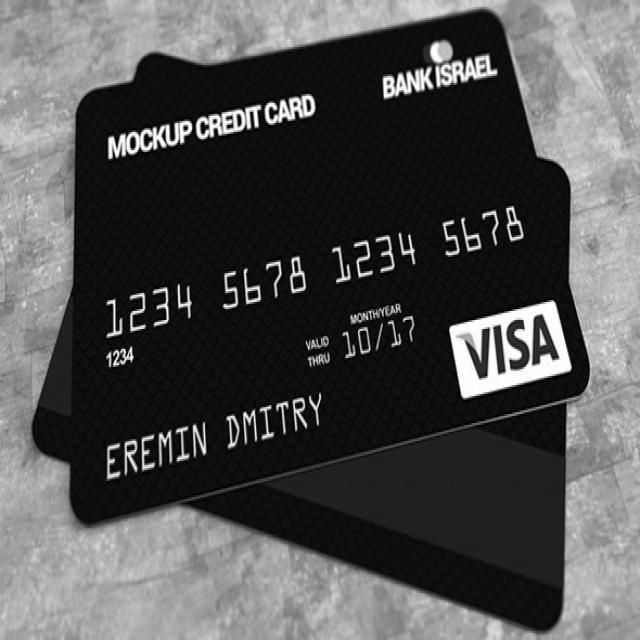card: (73, 8, 595, 528)
